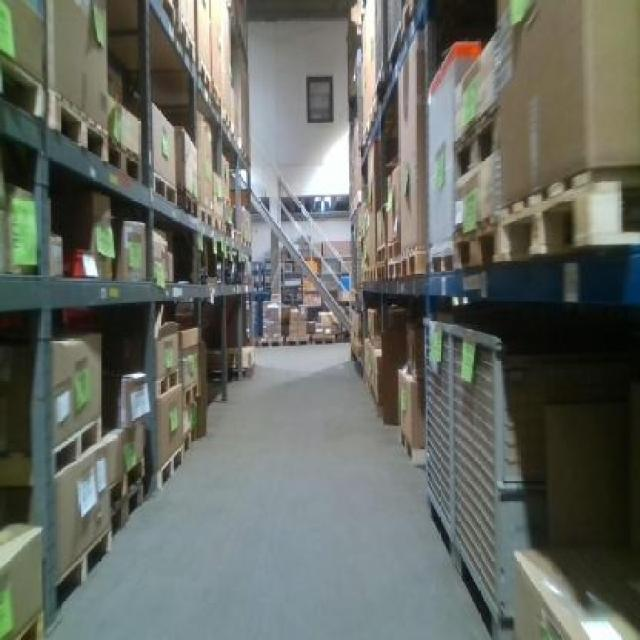floor: (46, 343, 486, 637)
